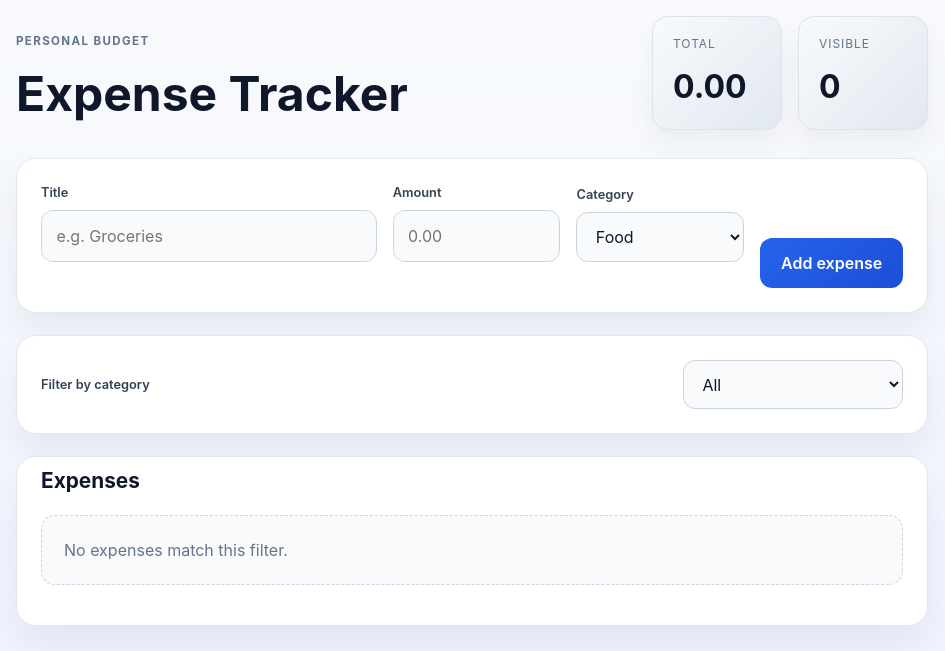
Scenario: Expense tracker app › rejects an empty title
Step 1. Type "250" into the number field labelled "Amount" → (476, 236), box 393,210 -> 560,262
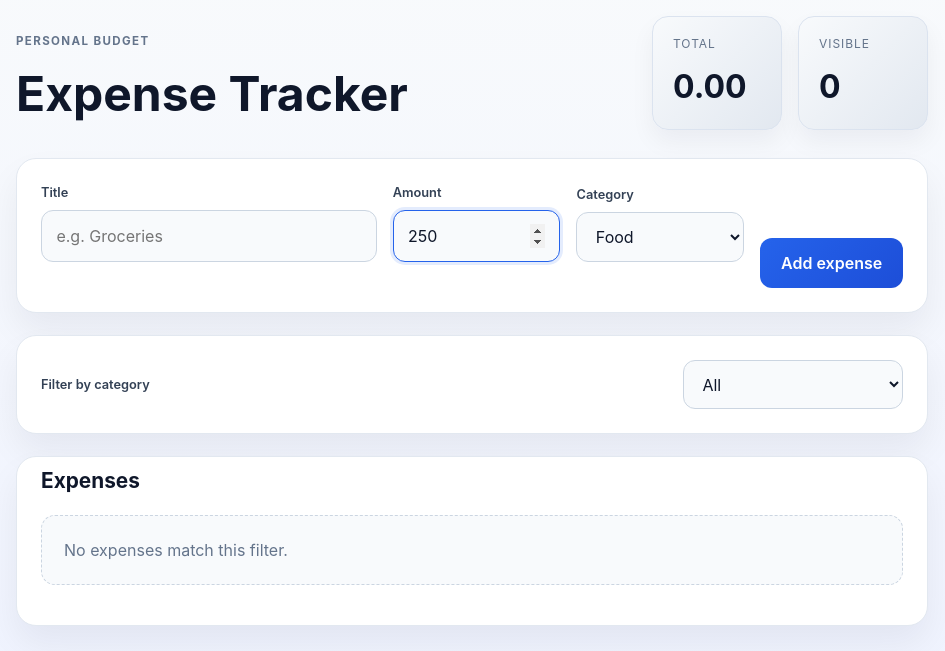
Step 2. Click the button "Add expense" → click(832, 263), box 760,238 -> 903,288
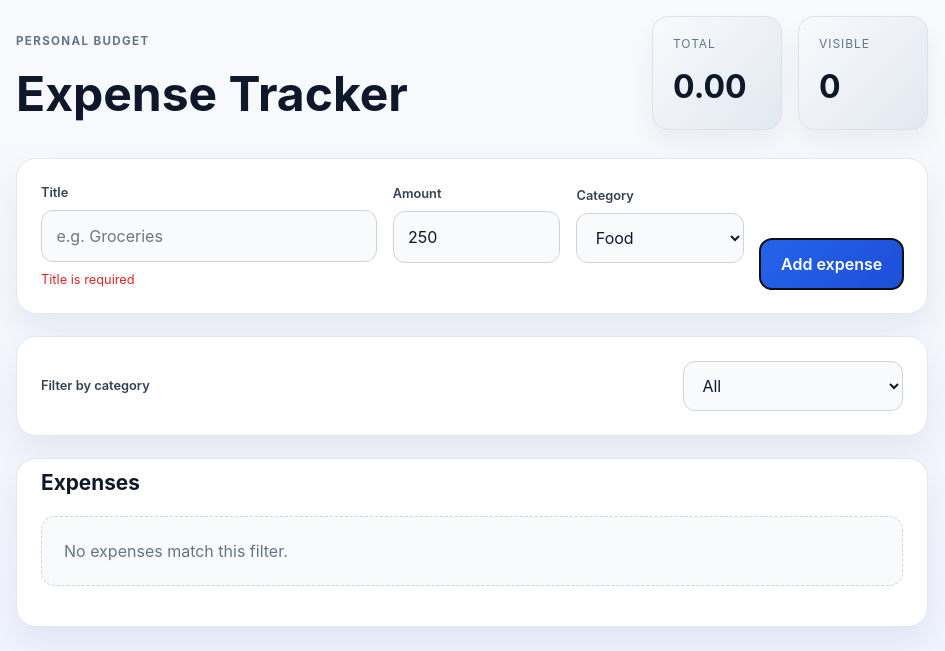
expect the text with test id "count" reads "0": met, box 819,67 -> 841,106
expect the text "Title is required" is shown: met, box 41,272 -> 135,287
